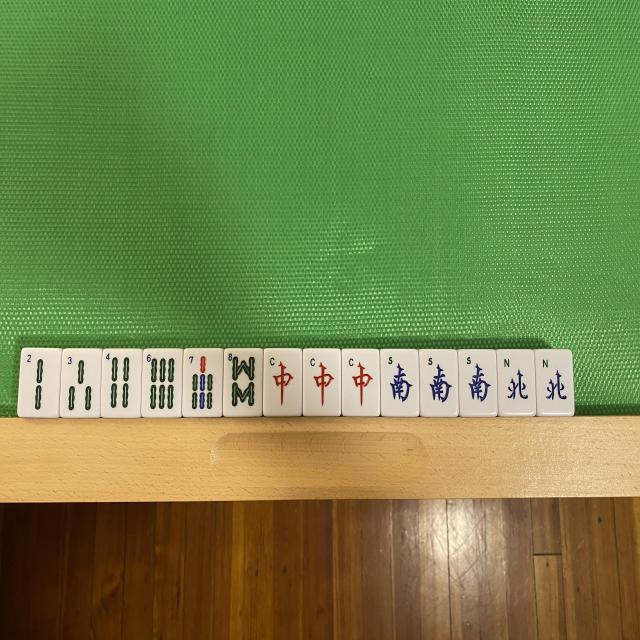hdr: (263, 348, 301, 416), (341, 350, 379, 416), (302, 350, 340, 416)
hwn: (498, 351, 532, 413), (538, 350, 570, 413)
hws: (380, 350, 418, 416), (421, 350, 456, 416), (461, 350, 496, 415)
sb2: (22, 349, 57, 416)
sb3: (61, 351, 100, 416)
sb4: (100, 350, 142, 418)
sb6: (142, 350, 181, 417)
sb7: (183, 348, 222, 416)
sb8: (224, 349, 262, 415)
